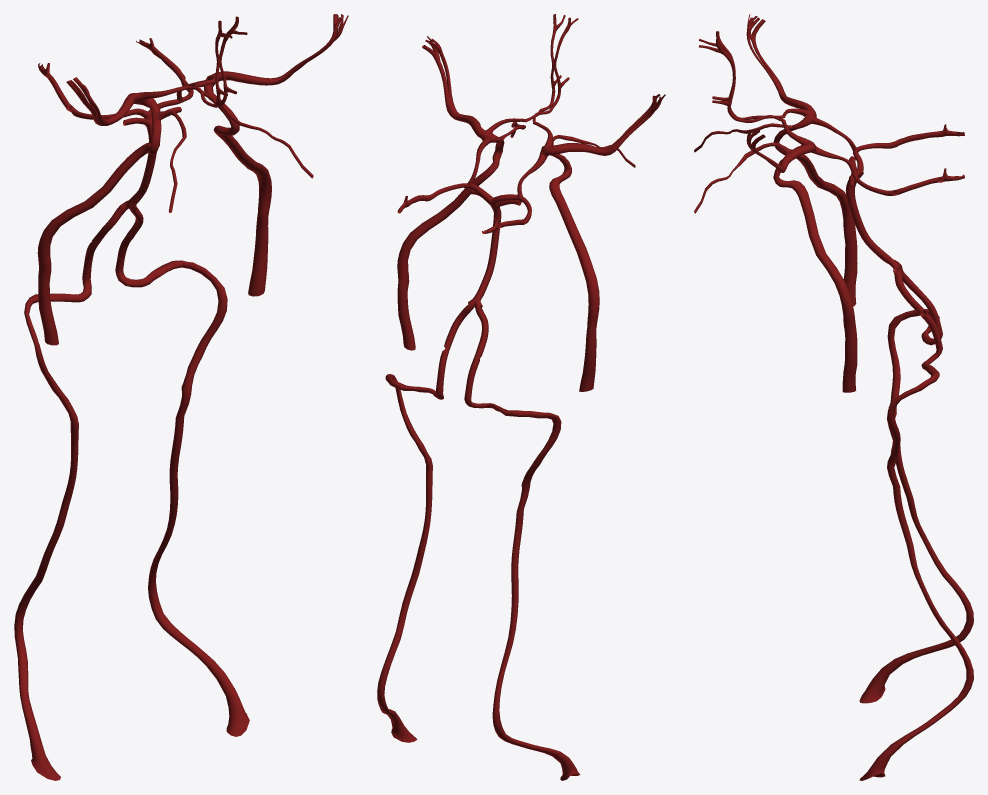
Rendered from Circle of Willis.FBX.
3 views of the same model, side by side, from view 1: azimuth 30°, elevation 25°; view 2: azimuth 150°, elevation 25°; view 3: azimuth 270°, elevation 25° (orthographic). The views are drawn at different scales.
Parts seen in each view (by area): view 1: L_Vertebral_Artery, R_Vertebral_Artery, R_Internal_Carotid_Artery, L_Internal_Carotid_Artery, L_Middle_Cerebral_Artery, R_Middle_Cerebral_Artery, R_Anterior_Cerebral_Artery, L_Anterior_Cerebral_Artery, Basilar_Artery; view 2: R_Vertebral_Artery, L_Vertebral_Artery, R_Internal_Carotid_Artery, L_Internal_Carotid_Artery, R_Middle_Cerebral_Artery, L_Middle_Cerebral_Artery, Basilar_Artery, L_Anterior_Cerebral_Artery, R_Anterior_Cerebral_Artery; view 3: L_Vertebral_Artery, R_Vertebral_Artery, L_Internal_Carotid_Artery, R_Internal_Carotid_Artery, R_Middle_Cerebral_Artery, Basilar_Artery, L_Anterior_Cerebral_Artery, L_Middle_Cerebral_Artery, R_Anterior_Cerebral_Artery.
Part boxes in pixels (x1,y1,x2,y2): L_Vertebral_Artery: (115, 206, 249, 736); R_Vertebral_Artery: (14, 206, 124, 780); R_Internal_Carotid_Artery: (37, 98, 161, 345); L_Internal_Carotid_Artery: (204, 77, 271, 296); L_Middle_Cerebral_Artery: (207, 14, 348, 85); R_Middle_Cerebral_Artery: (66, 77, 139, 125); R_Anterior_Cerebral_Artery: (138, 20, 232, 107); L_Anterior_Cerebral_Artery: (194, 16, 247, 106); Basilar_Artery: (120, 124, 156, 211); R_Vertebral_Artery: (464, 307, 580, 780); L_Vertebral_Artery: (377, 304, 473, 742); R_Internal_Carotid_Artery: (541, 146, 599, 391); L_Internal_Carotid_Artery: (397, 133, 504, 350); R_Middle_Cerebral_Artery: (541, 94, 665, 156); L_Middle_Cerebral_Artery: (422, 36, 490, 140); Basilar_Artery: (468, 206, 501, 307); L_Anterior_Cerebral_Artery: (485, 14, 565, 134); R_Anterior_Cerebral_Artery: (532, 17, 578, 147); L_Vertebral_Artery: (859, 267, 973, 780); R_Vertebral_Artery: (859, 263, 973, 703); L_Internal_Carotid_Artery: (773, 142, 857, 392); R_Internal_Carotid_Artery: (773, 114, 857, 306); R_Middle_Cerebral_Artery: (746, 14, 816, 118); Basilar_Artery: (845, 179, 899, 270); L_Anterior_Cerebral_Artery: (699, 38, 812, 144); L_Middle_Cerebral_Artery: (746, 129, 816, 172); R_Anterior_Cerebral_Artery: (699, 31, 813, 119).
Size of the model in its own units: 7.8 by 21.51 by 7.73.
